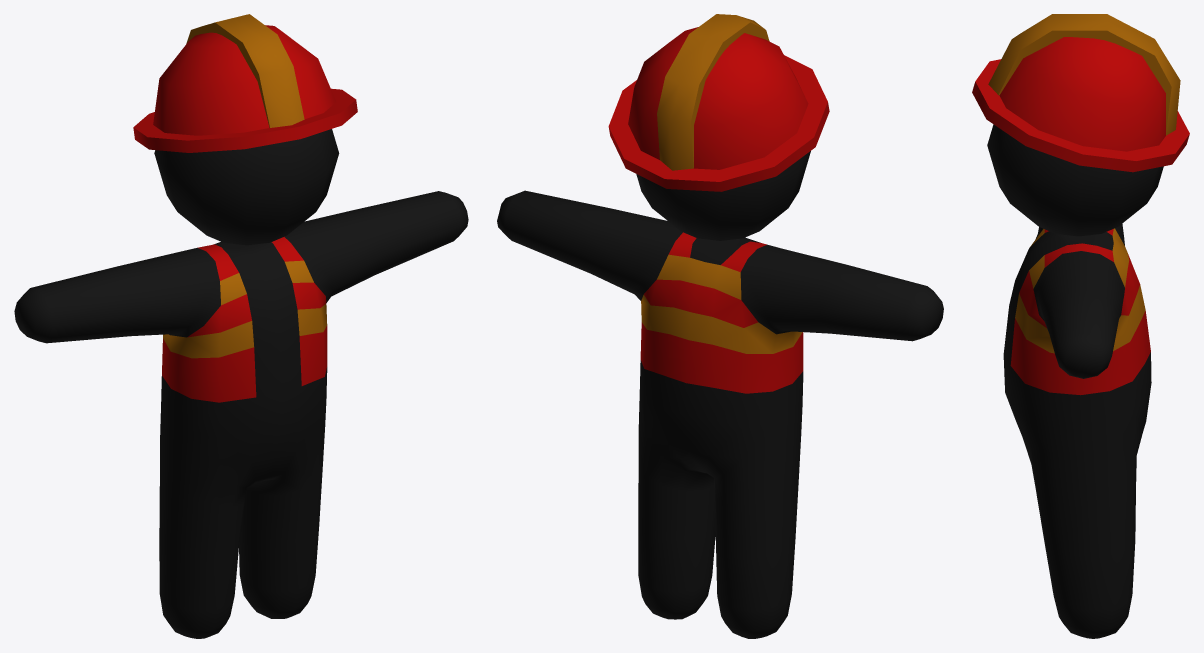
File: builder.FBX
The picture shows the model from 3 angles, left to right: view 1: azimuth 30°, elevation 25°; view 2: azimuth 150°, elevation 25°; view 3: azimuth 270°, elevation 25°; orthographic projection.
Parts seen in each view (by area): view 1: Object001; view 2: Object001; view 3: Object001.
Boxes of the visible parts, x1,y1,x2,y2 form: Object001: (14, 14, 468, 638); Object001: (497, 14, 943, 638); Object001: (972, 14, 1189, 638).
Size of the model in its own units: 163 by 214 by 71.09.
